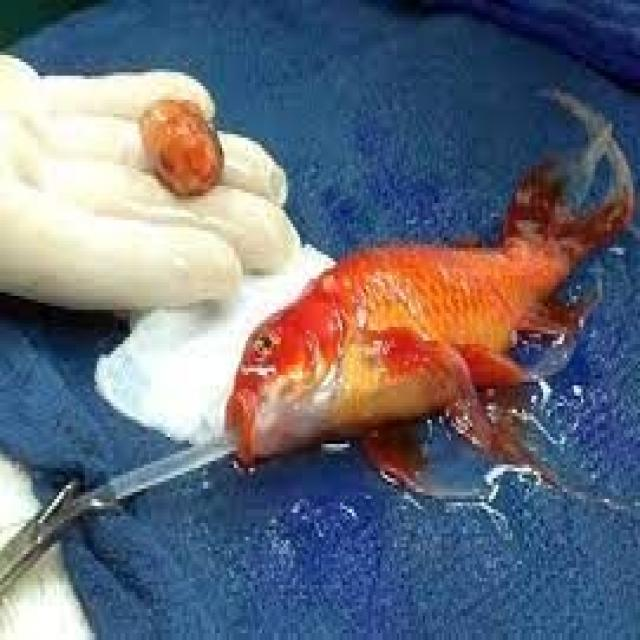Gold-Fish: (165, 120, 640, 578)
